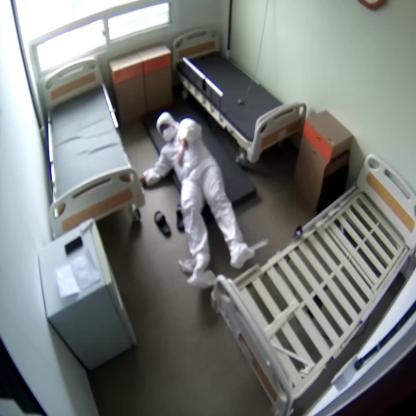Person: (139, 114, 254, 286)
